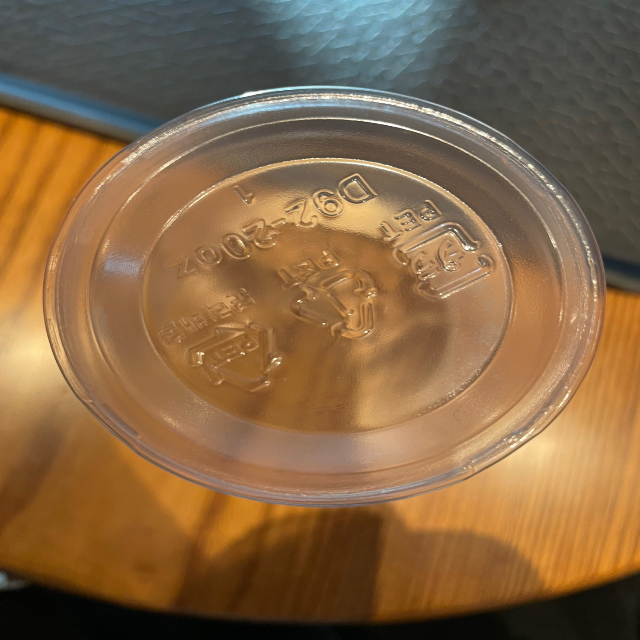pet: (157, 285, 287, 402), (376, 196, 497, 300), (276, 245, 386, 344)
